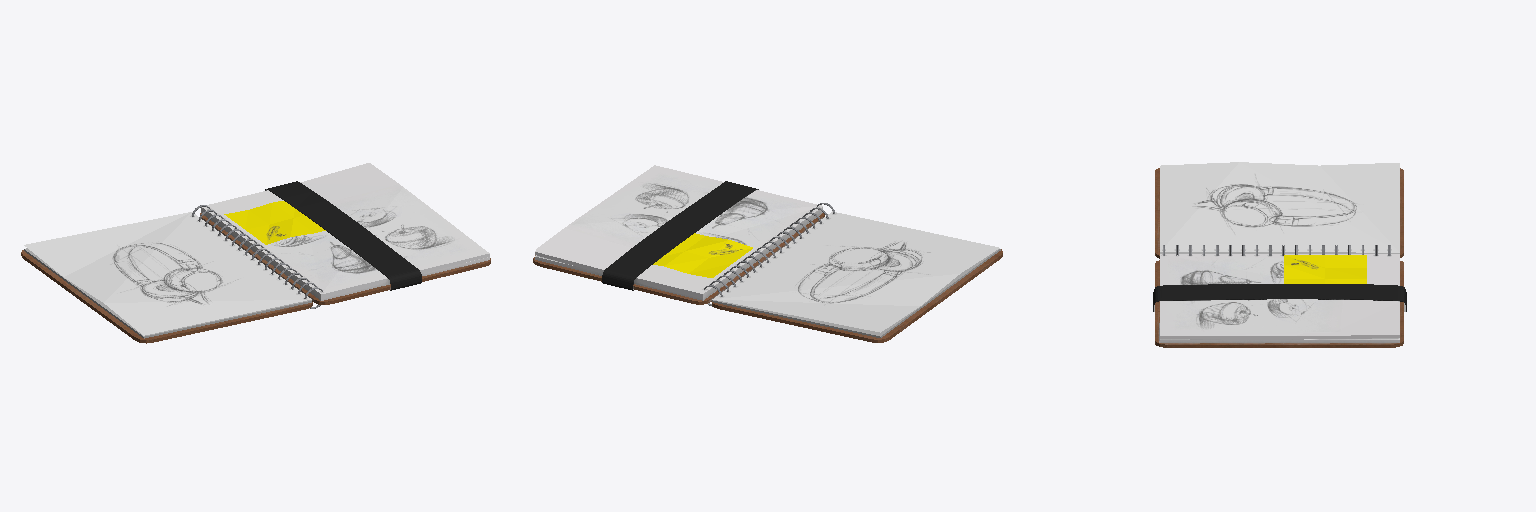
3 views of the same model, side by side, from view 1: azimuth 30°, elevation 25°; view 2: azimuth 150°, elevation 25°; view 3: azimuth 270°, elevation 25° (orthographic).
Parts seen in each view (by area): view 1: notebook_03_low_low_0, notebook_01_low_low_0, notebook_02_low_low_0, notebook_04_low_low_0; view 2: notebook_03_low_low_0, notebook_01_low_low_0, notebook_02_low_low_0, notebook_04_low_low_0; view 3: notebook_03_low_low_0, notebook_01_low_low_0, notebook_02_low_low_0, notebook_04_low_low_0.
Part boxes in pixels (x1,y1,x2,y2): notebook_03_low_low_0: (21, 163, 490, 343); notebook_01_low_low_0: (192, 181, 421, 308); notebook_02_low_low_0: (24, 207, 489, 338); notebook_04_low_low_0: (224, 201, 325, 244); notebook_03_low_low_0: (533, 165, 1002, 342); notebook_01_low_low_0: (602, 181, 834, 306); notebook_02_low_low_0: (535, 206, 1000, 337); notebook_04_low_low_0: (653, 233, 752, 277); notebook_03_low_low_0: (1155, 162, 1403, 347); notebook_01_low_low_0: (1153, 245, 1406, 311); notebook_02_low_low_0: (1159, 252, 1399, 342); notebook_04_low_low_0: (1284, 255, 1366, 283).
Size of the model in its own units: 3.42 by 0.191 by 2.12.
1 materials, 1 textured.